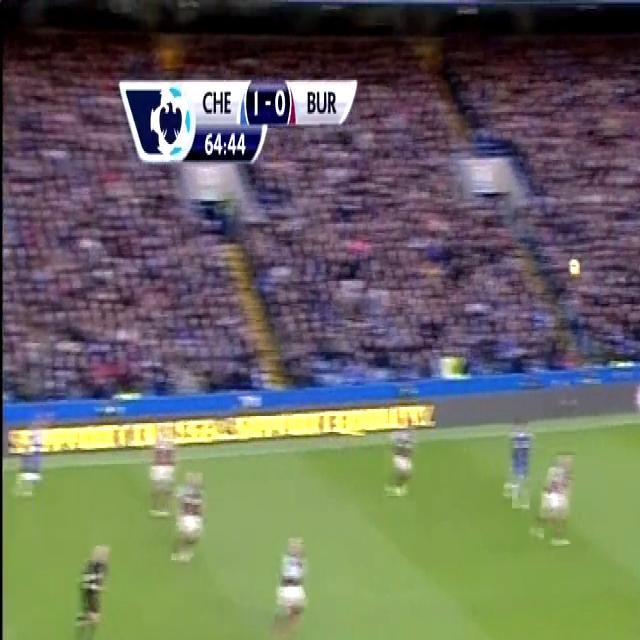referee: (63, 528, 112, 640)
soccer-player: (264, 519, 316, 640), (531, 434, 582, 556), (168, 463, 215, 579), (503, 404, 543, 524), (141, 416, 181, 532), (382, 417, 428, 512)
